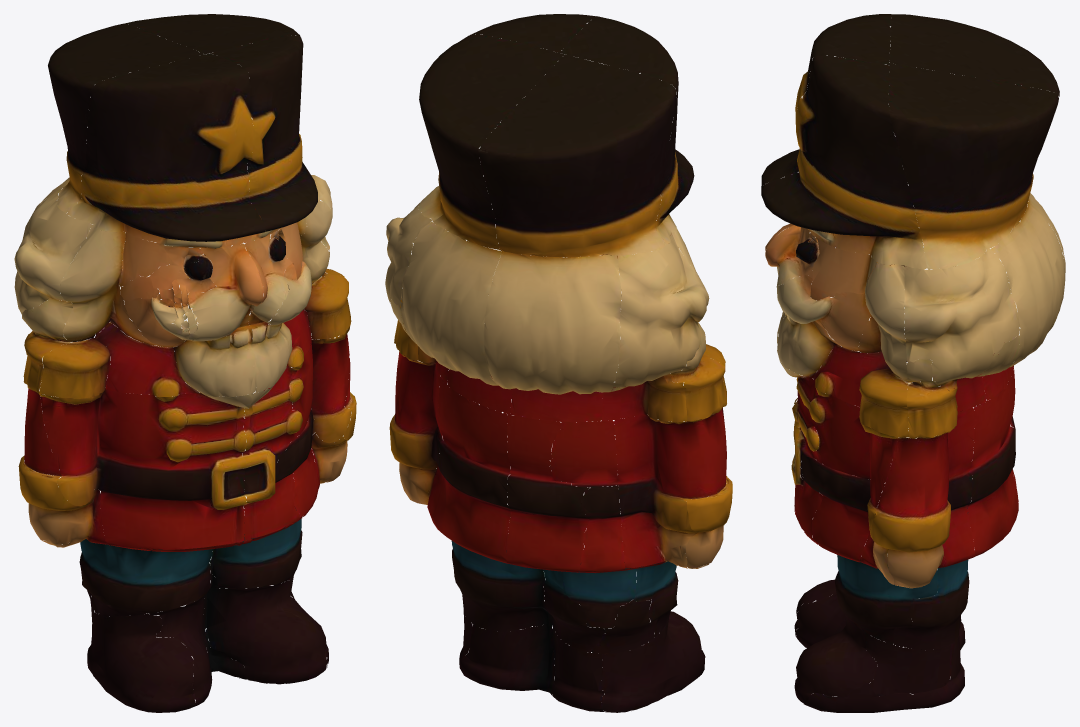
Rendered from cascanueces.glb.
The picture shows the model from 3 angles, left to right: view 1: azimuth 30°, elevation 25°; view 2: azimuth 150°, elevation 25°; view 3: azimuth 270°, elevation 25°; orthographic projection.
Visible parts, largest first — view 1: tripo_node_8b61d36b-026b-4d9a-b705-a7b41c7b7ecc; view 2: tripo_node_8b61d36b-026b-4d9a-b705-a7b41c7b7ecc; view 3: tripo_node_8b61d36b-026b-4d9a-b705-a7b41c7b7ecc.
Part boxes in pixels (<box>): tripo_node_8b61d36b-026b-4d9a-b705-a7b41c7b7ecc: <box>14,14,356,712</box>; tripo_node_8b61d36b-026b-4d9a-b705-a7b41c7b7ecc: <box>385,14,732,712</box>; tripo_node_8b61d36b-026b-4d9a-b705-a7b41c7b7ecc: <box>761,14,1065,712</box>.
Size of the model in its own units: 0.5541 by 0.9998 by 0.4469.
1 material, 1 textured.
